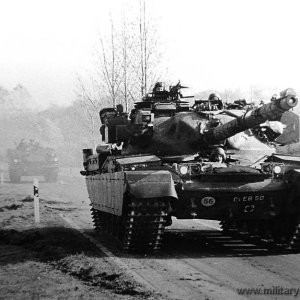Battle Tank: (80, 84, 300, 253)
